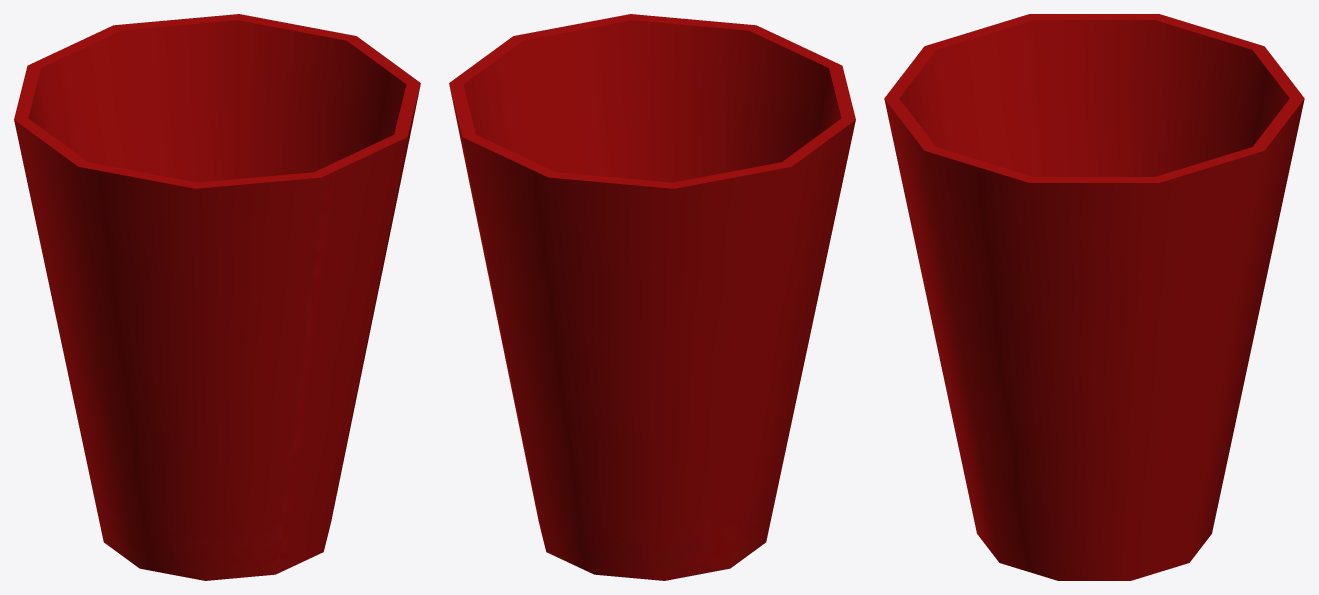
Rendered from M_GelasKosong.fbx.
3 views of the same model, side by side, from view 1: azimuth 30°, elevation 25°; view 2: azimuth 150°, elevation 25°; view 3: azimuth 270°, elevation 25° (orthographic).
Parts seen in each view (by area): view 1: Cylinder.002; view 2: Cylinder.002; view 3: Cylinder.002.
Part boxes in pixels (box(x1,y1,x2,y2)): Cylinder.002: box(14, 14, 420, 580); Cylinder.002: box(449, 14, 855, 580); Cylinder.002: box(884, 14, 1304, 580).
Size of the model in its own units: 9.05 by 10.88 by 9.52.
